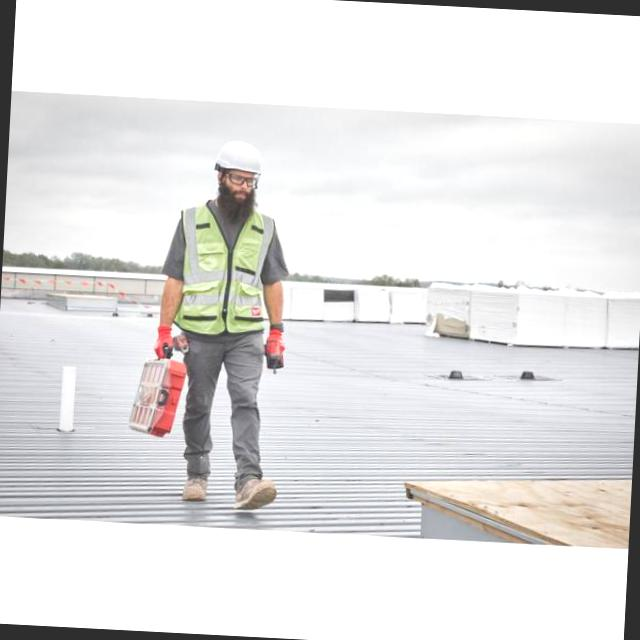goggles: (207, 164, 268, 198)
helmet: (200, 132, 276, 186)
vest: (168, 202, 282, 352)
